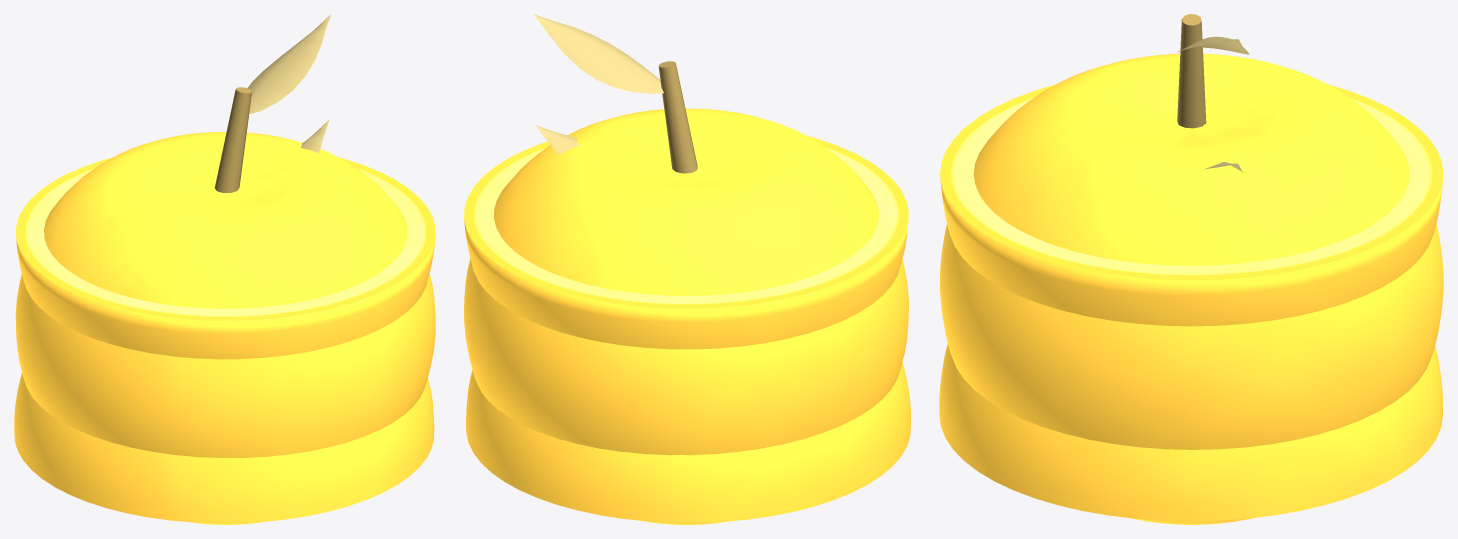
File: goldapple.glb
The picture shows the model from 3 angles, left to right: view 1: azimuth 30°, elevation 25°; view 2: azimuth 150°, elevation 25°; view 3: azimuth 270°, elevation 25°; orthographic projection. The views are drawn at different scales.
Visible parts, largest first — view 1: whole, top, bot; view 2: whole, top, bot; view 3: whole, bot, top.
Boxes of the visible parts, x1,y1,x2,y2 form: whole: (15,14,435,524); top: (14,119,434,523); bot: (16,157,435,359); whole: (464,14,908,524); top: (466,125,910,522); bot: (464,135,908,349); whole: (940,14,1443,524); bot: (940,84,1443,326); top: (939,162,1442,521).
Bounding box in the file's own units: 0.6031 × 0.6766 × 0.6009.
Materials: 4 (2 with a texture image).
